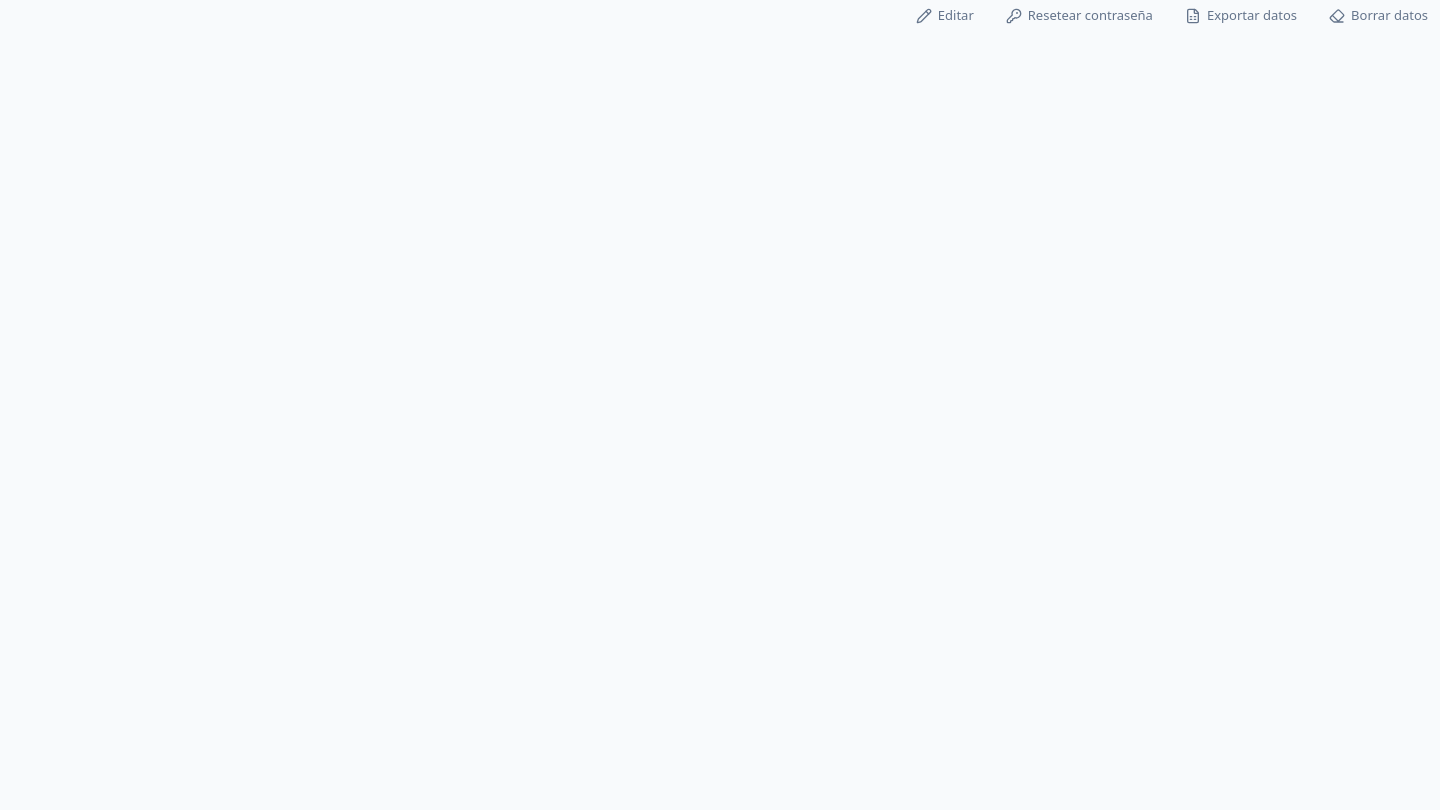
UserRowActions › shows an inline error inside the dialog when anonymizing fails, without closing it
The image size is (1440, 810).
Click the button "Borrar datos": (1379, 16) [1317, 0, 1439, 32]
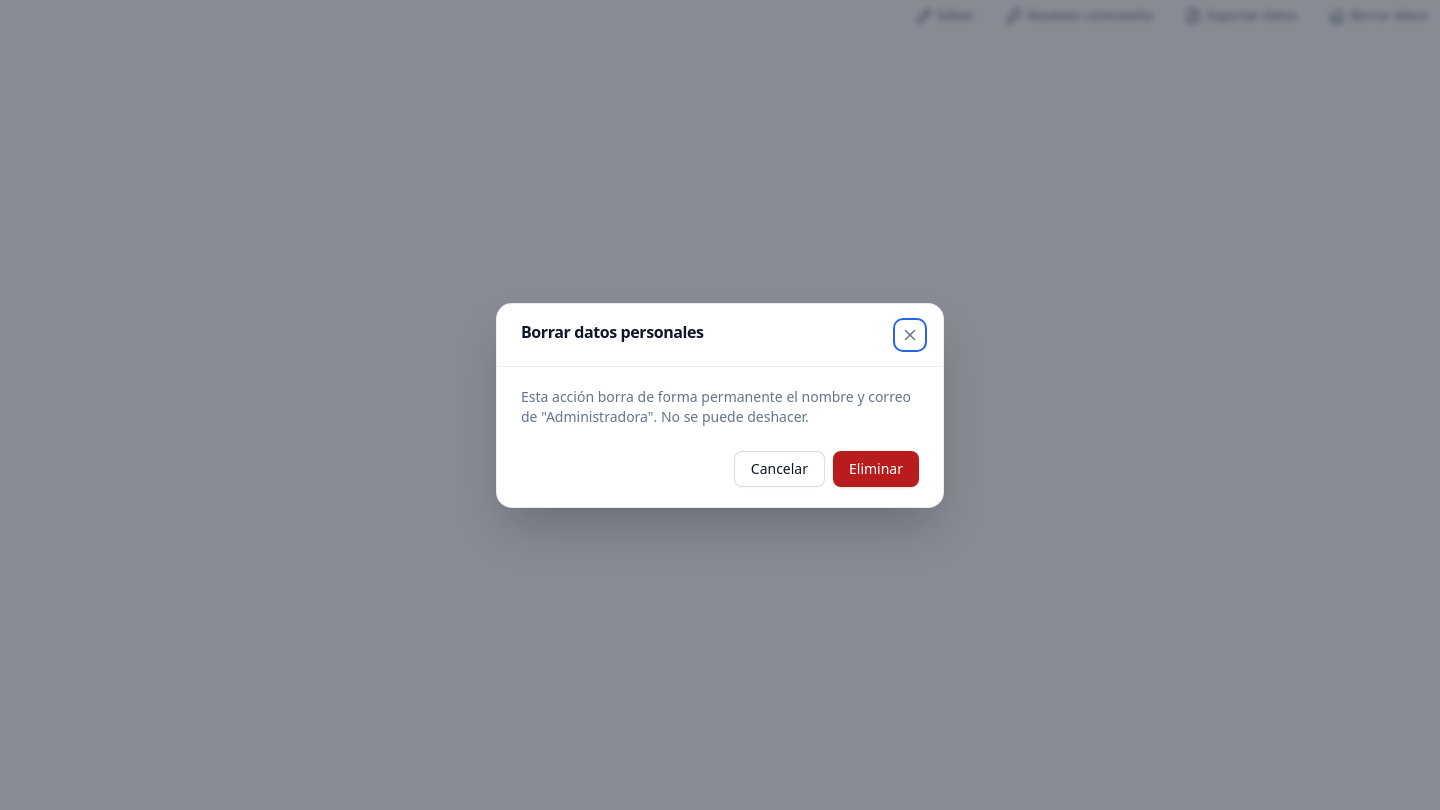
Click the button "Eliminar": (876, 468) [833, 450, 919, 486]
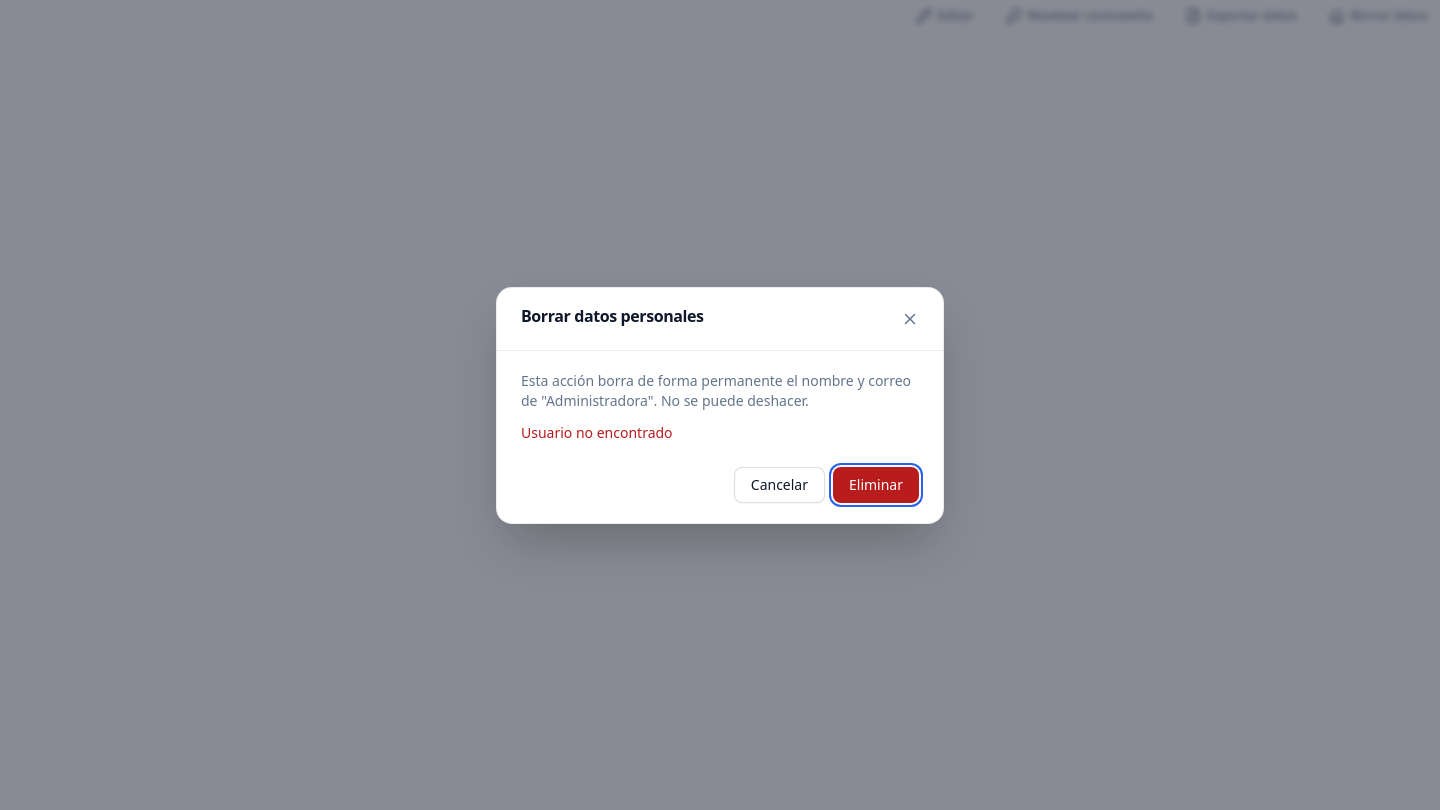
Expected: the dialog is shown, [496, 286, 944, 524]
Expected: the text "Usuario no encontrado" is shown, [521, 422, 673, 442]
